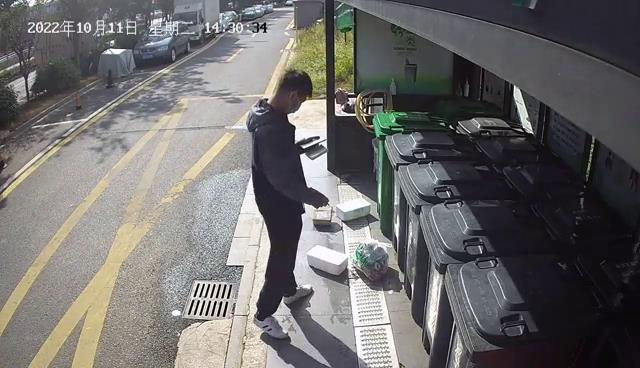person: (243, 68, 330, 339)
suliaozhipin: (353, 237, 394, 283)
zhizhipin: (305, 242, 349, 277), (335, 197, 372, 222), (312, 204, 333, 227)
